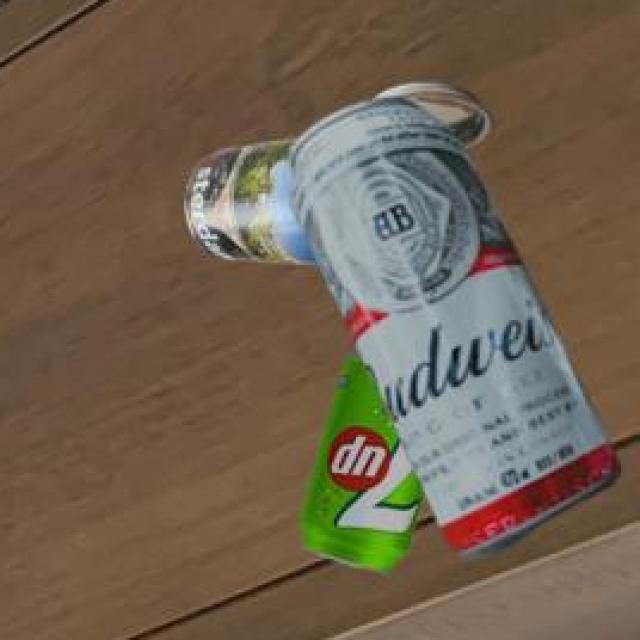logam: (295, 101, 624, 560), (190, 87, 496, 267), (304, 357, 429, 577)
